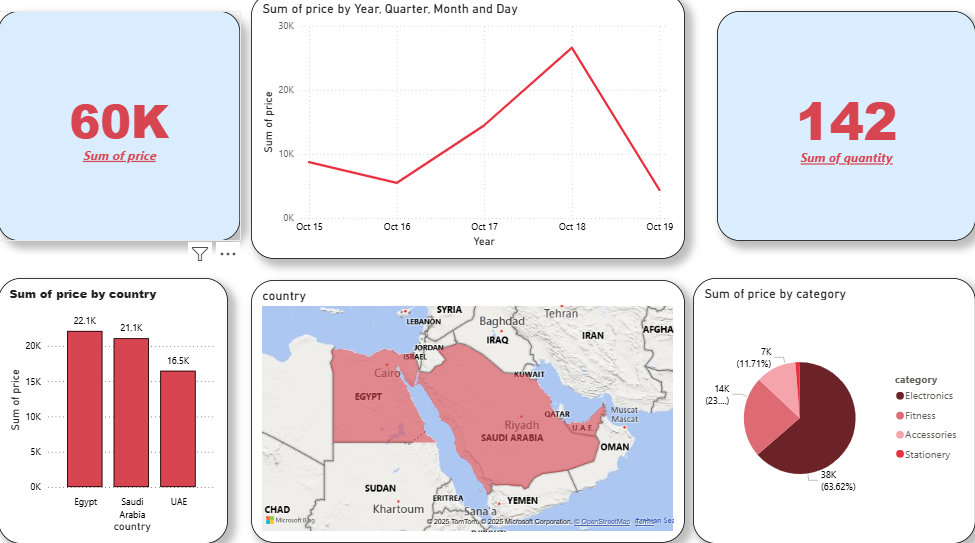

This screenshot's page, from the dashboard's own definition file:
{"tool":"powerbi","page":{"name":"Page 1","canvas":[1280,720],"ordinal":0},"visuals":[{"type":"filledMap","fields":{"Category":["customers_bronze.country"]},"box":[330.9,376.3,567.8,344.4],"z":0},{"type":"card","fields":{"Values":["Sum(alldata_silver.price)"]},"box":[0,23.5,317.5,300.7],"z":1000},{"type":"card","fields":{"Values":["Sum(alldata_silver.quantity)"]},"box":[940.7,23.5,339.3,300.7],"z":2001},{"type":"clusteredColumnChart","fields":{"Category":["alldata_silver.country"],"Y":["Sum(alldata_silver.price)"]},"box":[0,372.9,300.7,347.7],"z":2004},{"type":"pieChart","fields":{"Category":["alldata_silver.category"],"Y":["Sum(alldata_silver.price)"]},"box":[910.4,372.9,369.6,347.7],"z":2005},{"type":"lineChart","fields":{"Category":["alldata_silver.registration_date.Variation.Date Hierarchy.Year","alldata_silver.registration_date.Variation.Date Hierarchy.Quarter","alldata_silver.registration_date.Variation.Date Hierarchy.Month","alldata_silver.registration_date.Variation.Date Hierarchy.Day"],"Y":["Sum(alldata_silver.price)"]},"box":[330.9,0,567.8,347.7],"z":2006}]}

Visuals, with their boxes in screenshot pixels (x1, y1, x2, y2), scaled from the page's 1280x720 canvas onto the 975x543 screenshot:
filledMap - customers_bronze.country: (x1=252, y1=284, x2=685, y2=542)
card - Sum(alldata_silver.price): (x1=0, y1=18, x2=242, y2=245)
card - Sum(alldata_silver.quantity): (x1=717, y1=18, x2=974, y2=245)
clusteredColumnChart - alldata_silver.country x Sum(alldata_silver.price): (x1=0, y1=281, x2=229, y2=542)
pieChart - alldata_silver.category x Sum(alldata_silver.price): (x1=693, y1=281, x2=974, y2=542)
lineChart - alldata_silver.registration_date.Variation.Date Hierarchy.Year x alldata_silver.registration_date.Variation.Date Hierarchy.Quarter: (x1=252, y1=0, x2=685, y2=262)
